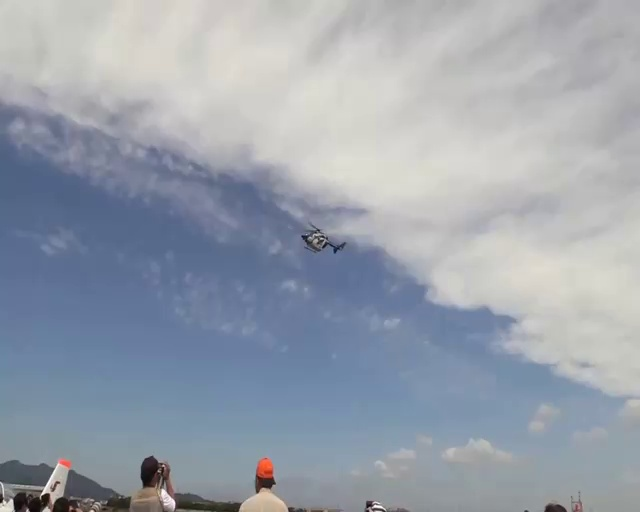HELICOPTER: (301, 221, 347, 254)
